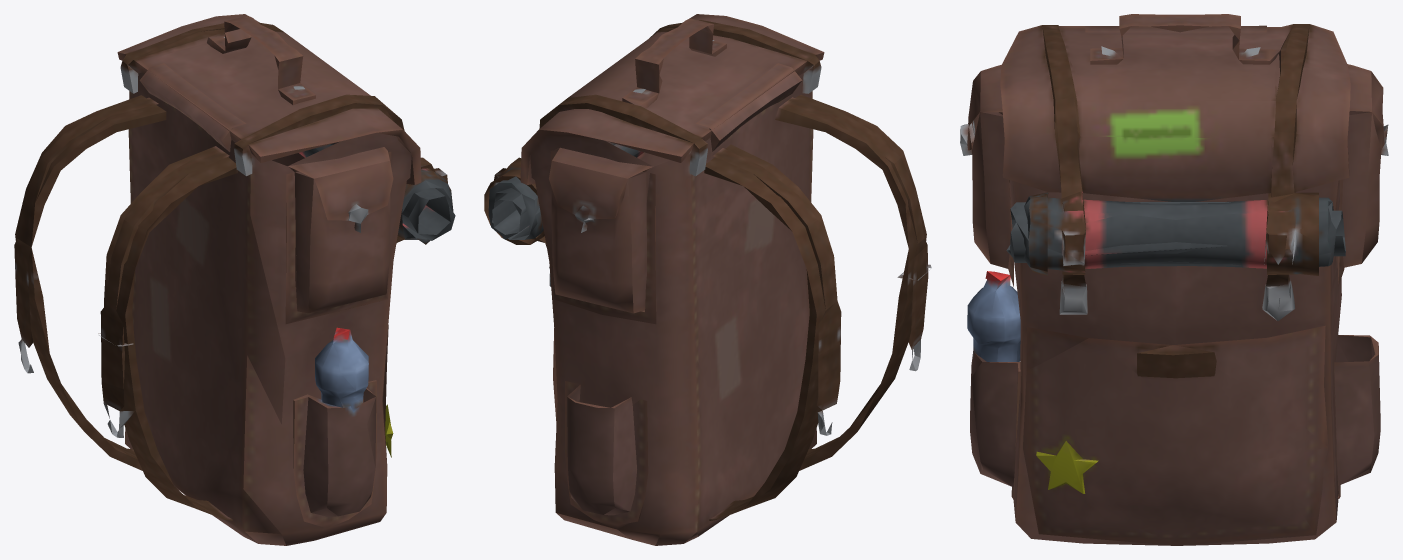
File: wear_backpack.glb
3 views of the same model, side by side, from view 1: azimuth 30°, elevation 25°; view 2: azimuth 150°, elevation 25°; view 3: azimuth 270°, elevation 25° (orthographic). The views are drawn at different scales.
Parts seen in each view (by area): view 1: mesh; view 2: mesh; view 3: mesh.
Part boxes in pixels (x1=…): mesh: x1=14, y1=14, x2=455, y2=545; mesh: x1=484, y1=14, x2=931, y2=545; mesh: x1=960, y1=14, x2=1388, y2=545.
Bounding box in the file's own units: 0.3487 × 0.45 × 0.3463.
Materials: 1 (1 with a texture image).
